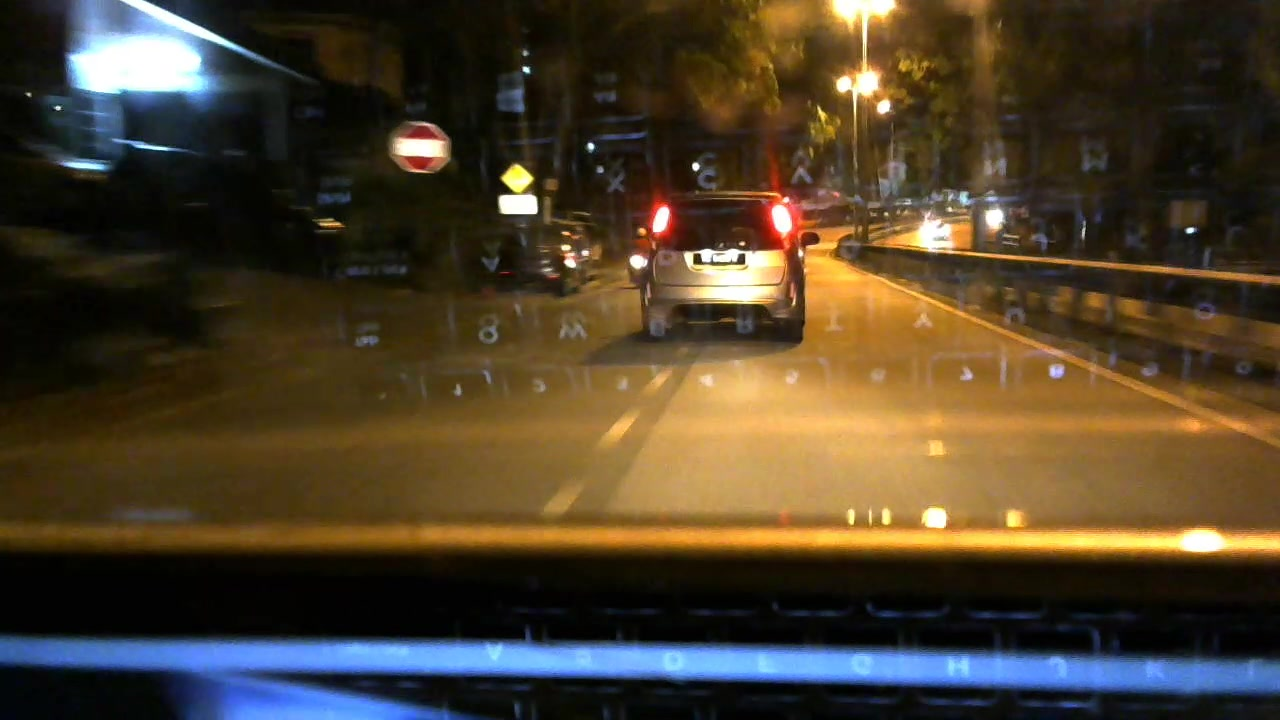Car: (640, 170, 818, 348), (499, 209, 591, 301)
